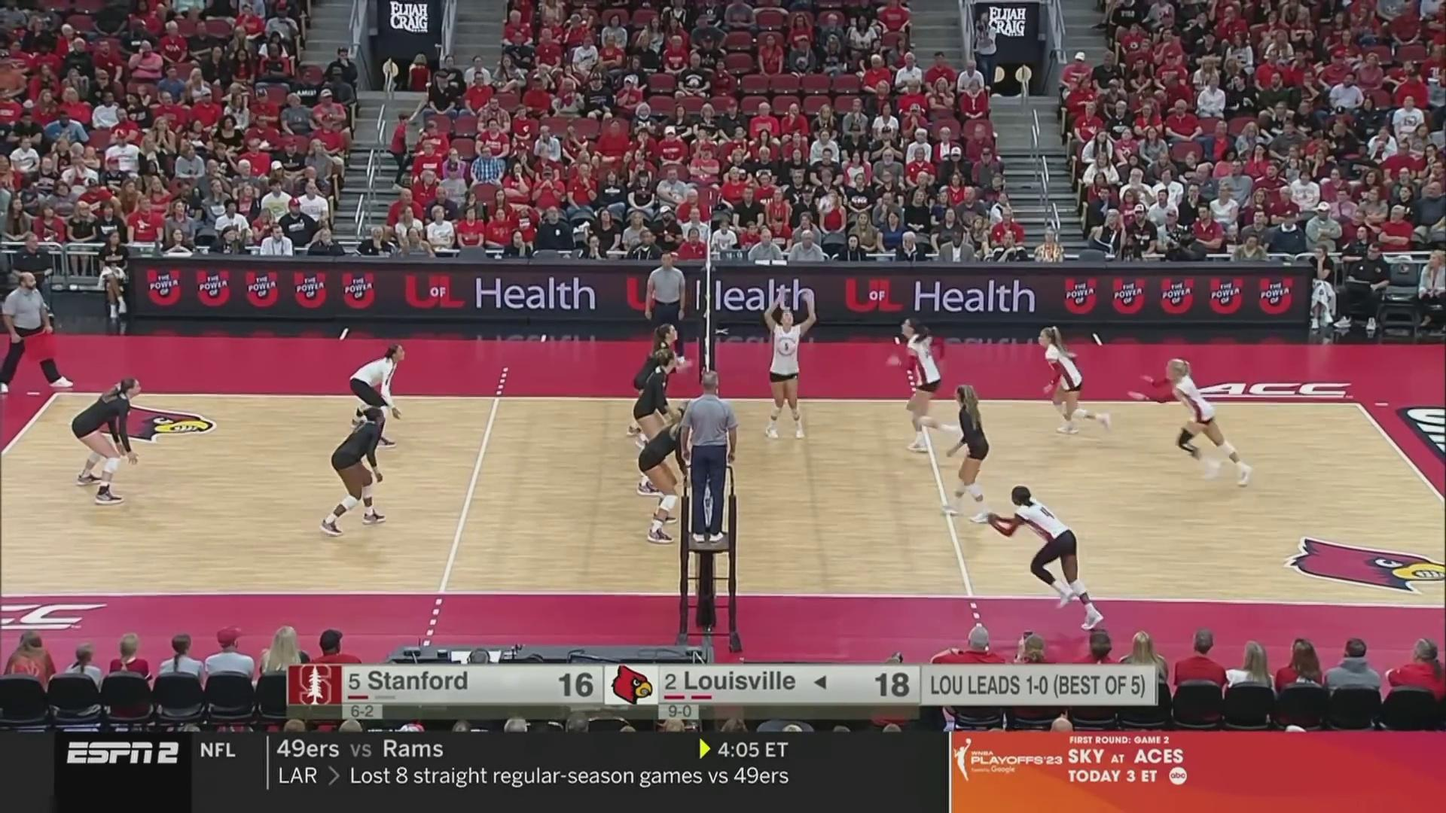player: (987, 487, 1104, 628), (1131, 359, 1251, 487), (71, 378, 144, 503), (896, 320, 966, 450), (1036, 326, 1115, 435), (323, 407, 387, 534), (762, 295, 816, 436), (640, 401, 692, 546), (633, 350, 680, 494), (943, 386, 991, 523), (346, 345, 407, 446), (631, 324, 678, 448)
refree: (681, 373, 736, 545), (0, 271, 74, 388), (646, 253, 688, 364)
